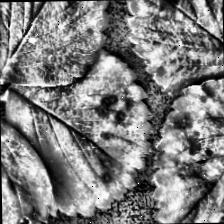Leaf Spot: (4, 46, 154, 218), (148, 78, 224, 223), (0, 0, 113, 90), (125, 0, 224, 97), (0, 77, 54, 224)
